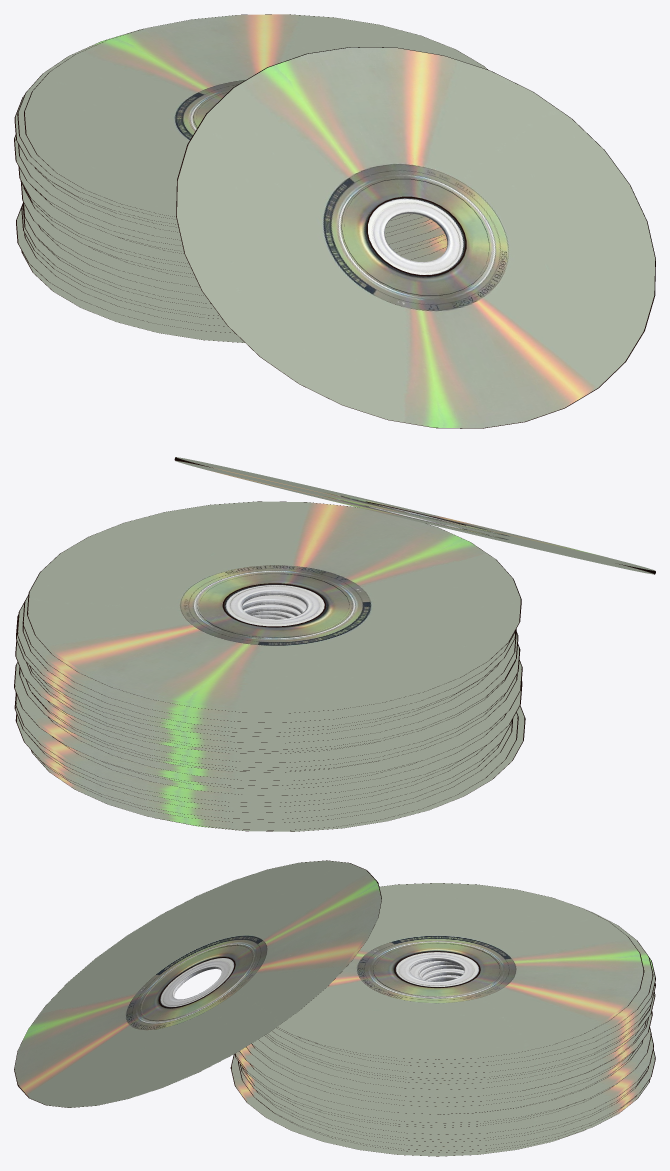
File: dvd.glb
3 views of the same model, one above another, from view 1: azimuth 30°, elevation 25°; view 2: azimuth 150°, elevation 25°; view 3: azimuth 270°, elevation 25° (orthographic). The views are drawn at different scales.
Visible parts, largest first — view 1: Circle.025_24, Circle.024_23, Circle.002_1, Circle.015_14, Circle.011_10, Circle.019_18, Circle_0, Circle.008_7, Circle.005_4, Circle.018_17, Circle.023_22, Circle.003_2 (+8 smaller); view 2: Circle.024_23, Circle.023_22, Circle.025_24, Circle.011_10, Circle.015_14, Circle.002_1, Circle.007_6, Circle.022_21, Circle.004_3, Circle.008_7, Circle.018_17, Circle.019_18 (+13 smaller); view 3: Circle.025_24, Circle.024_23, Circle.010_9, Circle.016_15, Circle.007_6, Circle.012_11, Circle.021_20, Circle.023_22, Circle.017_16, Circle.020_19, Circle.004_3, Circle.014_13 (+11 smaller).
Part boxes in pixels (left/top/right/bottom): Circle.025_24: left=176, top=47, right=655, bottom=428; Circle.024_23: left=24, top=14, right=487, bottom=216; Circle.002_1: left=16, top=203, right=234, bottom=333; Circle.015_14: left=18, top=166, right=445, bottom=263; Circle.011_10: left=21, top=183, right=199, bottom=287; Circle.019_18: left=18, top=144, right=430, bottom=240; Circle_0: left=21, top=250, right=244, bottom=342; Circle.008_7: left=23, top=202, right=210, bottom=303; Circle.005_4: left=23, top=205, right=219, bottom=315; Circle.018_17: left=14, top=135, right=433, bottom=246; Circle.023_22: left=17, top=28, right=176, bottom=219; Circle.003_2: left=24, top=233, right=227, bottom=326; Circle.024_23: left=27, top=501, right=521, bottom=713; Circle.023_22: left=22, top=595, right=515, bottom=722; Circle.025_24: left=174, top=457, right=655, bottom=574; Circle.011_10: left=48, top=660, right=522, bottom=780; Circle.015_14: left=48, top=644, right=520, bottom=762; Circle.002_1: left=31, top=712, right=518, bottom=830; Circle.007_6: left=15, top=693, right=474, bottom=802; Circle.022_21: left=22, top=604, right=516, bottom=728; Circle.004_3: left=15, top=713, right=500, bottom=819; Circle.008_7: left=52, top=681, right=522, bottom=795; Circle.018_17: left=29, top=632, right=518, bottom=749; Circle.019_18: left=43, top=618, right=516, bottom=743; Circle.025_24: left=14, top=860, right=381, bottom=1107; Circle.024_23: left=277, top=883, right=644, bottom=1059; Circle.010_9: left=249, top=1027, right=651, bottom=1123; Circle.016_15: left=251, top=1020, right=646, bottom=1097; Circle.007_6: left=268, top=1036, right=653, bottom=1134; Circle.012_11: left=239, top=1047, right=635, bottom=1114; Circle.021_20: left=272, top=968, right=655, bottom=1073; Circle.023_22: left=298, top=910, right=653, bottom=1063; Circle.017_16: left=258, top=1031, right=638, bottom=1089; Circle.020_19: left=268, top=975, right=651, bottom=1078; Circle.004_3: left=256, top=1049, right=655, bottom=1146; Circle.014_13: left=252, top=1011, right=652, bottom=1102.
Size of the model in its own units: 2.06 by 0.9379 by 3.1.
2 materials, 1 textured.
